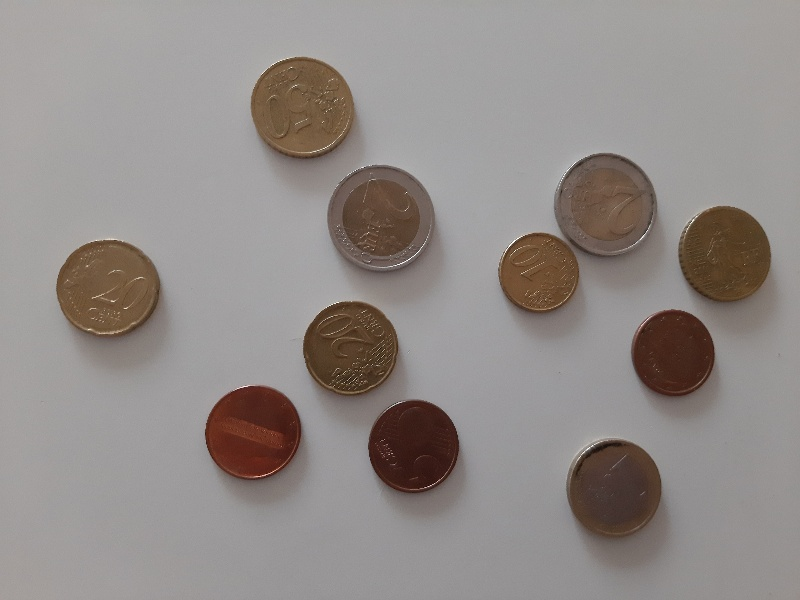1 euro: (564, 440, 670, 540)
10 cent: (496, 233, 584, 313)
2 euro: (323, 162, 438, 275), (552, 149, 663, 260)
20 cent: (52, 235, 163, 341), (299, 298, 406, 399)
5 cent: (202, 384, 302, 483), (366, 396, 462, 495), (630, 308, 720, 399)
50 cent: (249, 53, 359, 162), (676, 205, 775, 309)
